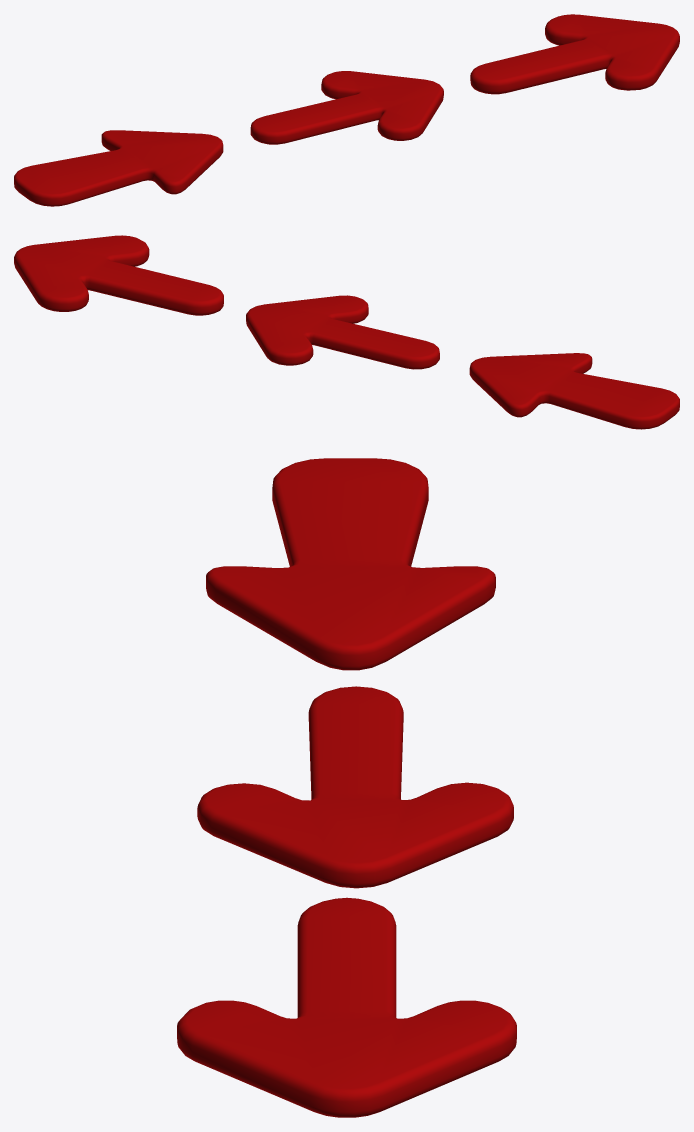
Rendered from arrows.fbx.
3 views of the same model, one above another, from view 1: azimuth 30°, elevation 25°; view 2: azimuth 150°, elevation 25°; view 3: azimuth 270°, elevation 25° (orthographic). The views are drawn at different scales.
Visible parts, largest first — view 1: arrow 3, arrow 1, arrow 2; view 2: arrow 3, arrow 1, arrow 2; view 3: arrow 3, arrow 1, arrow 2.
Boxes of the visible parts, x1,y1,x2,y2 form: arrow 3: [470, 14, 679, 94]; arrow 1: [14, 130, 223, 206]; arrow 2: [250, 71, 443, 144]; arrow 3: [14, 235, 223, 315]; arrow 1: [469, 353, 679, 429]; arrow 2: [246, 295, 439, 369]; arrow 3: [177, 897, 516, 1117]; arrow 1: [206, 458, 495, 670]; arrow 2: [197, 686, 513, 888].
Size of the model in its own units: 939 by 19.98 by 212.
